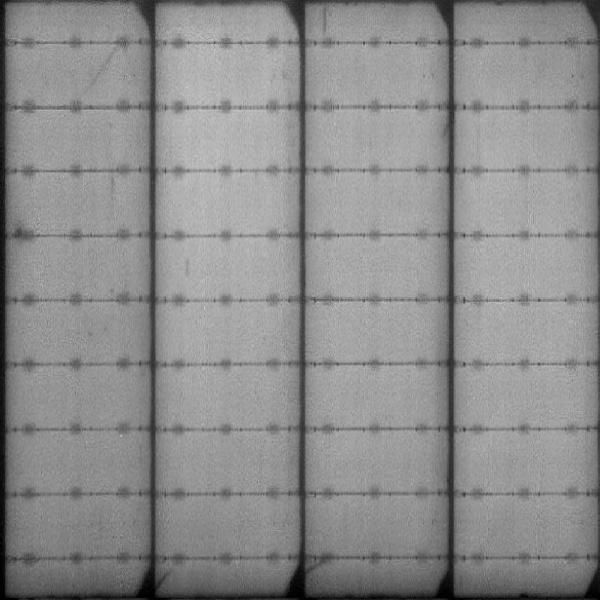scratch: (80, 46, 130, 101), (318, 3, 332, 34), (307, 562, 332, 575)
